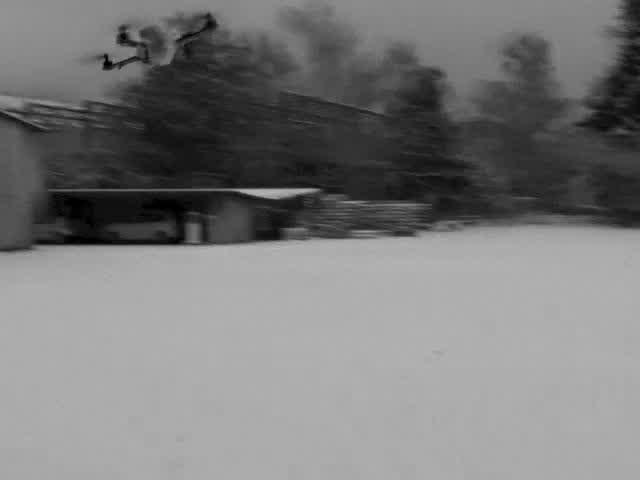drone: (83, 11, 226, 90)
